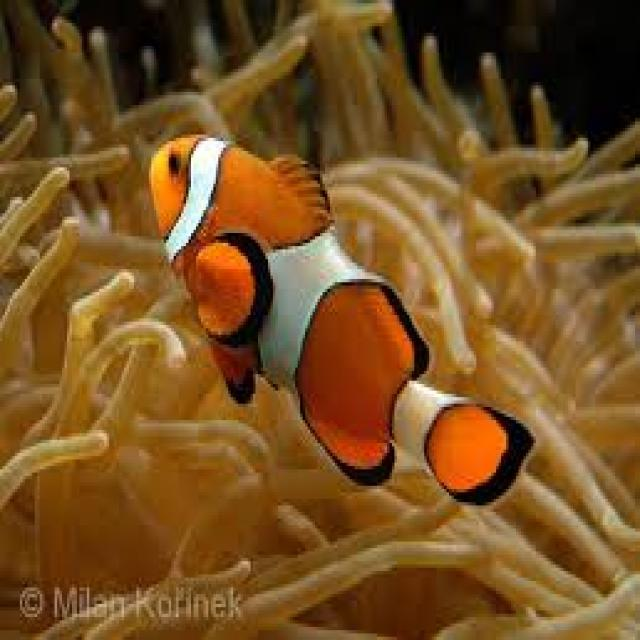ClownFish: (140, 114, 544, 536)
